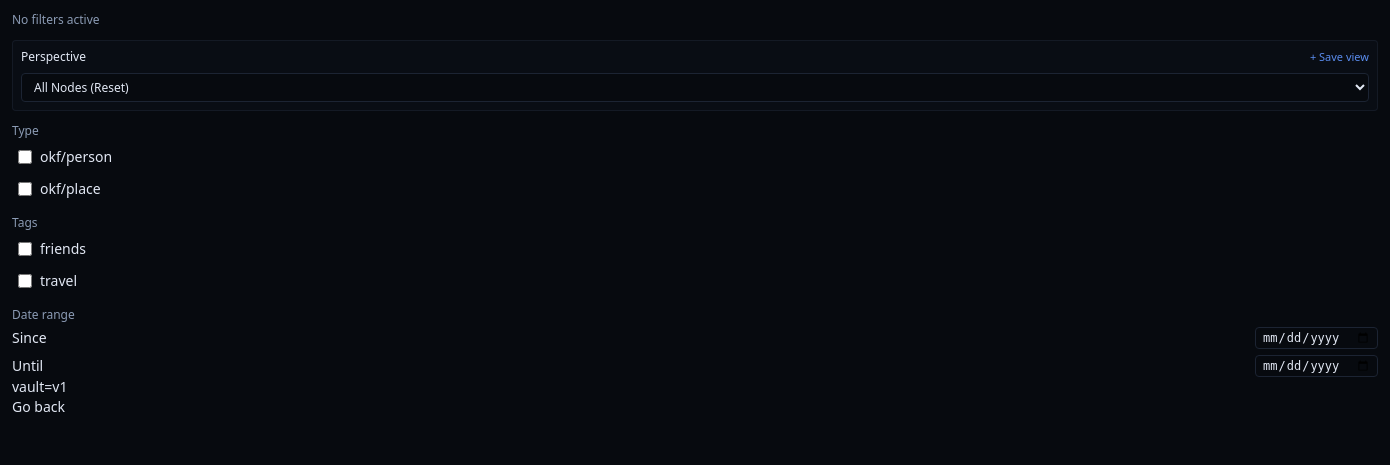
GraphFilters › shows the vault owner Delete on another member perspective
The width and height of the screenshot is (1390, 465).
Select "Member View" in the dropdown named "Graph perspective": (695, 88) top-left (21, 73), bottom-right (1369, 102)
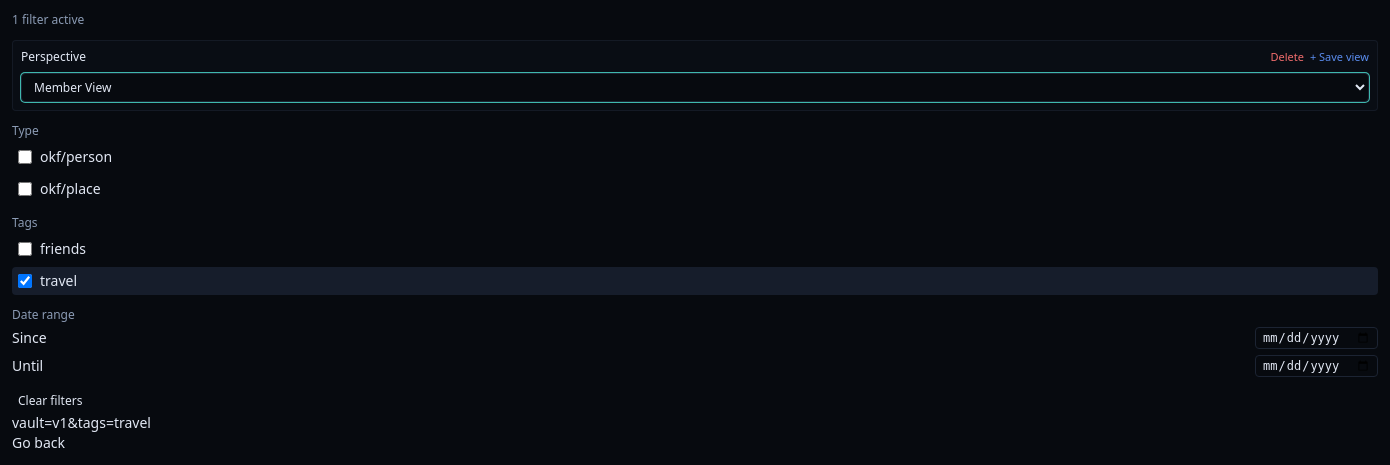
Expected: the button "Delete" is shown, top-left (1270, 49), bottom-right (1304, 65)
